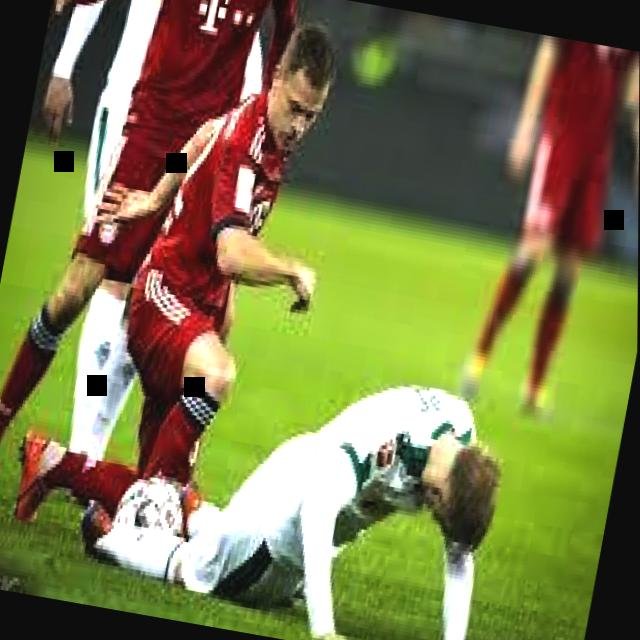Fall-Detected: (0, 312, 549, 640)
